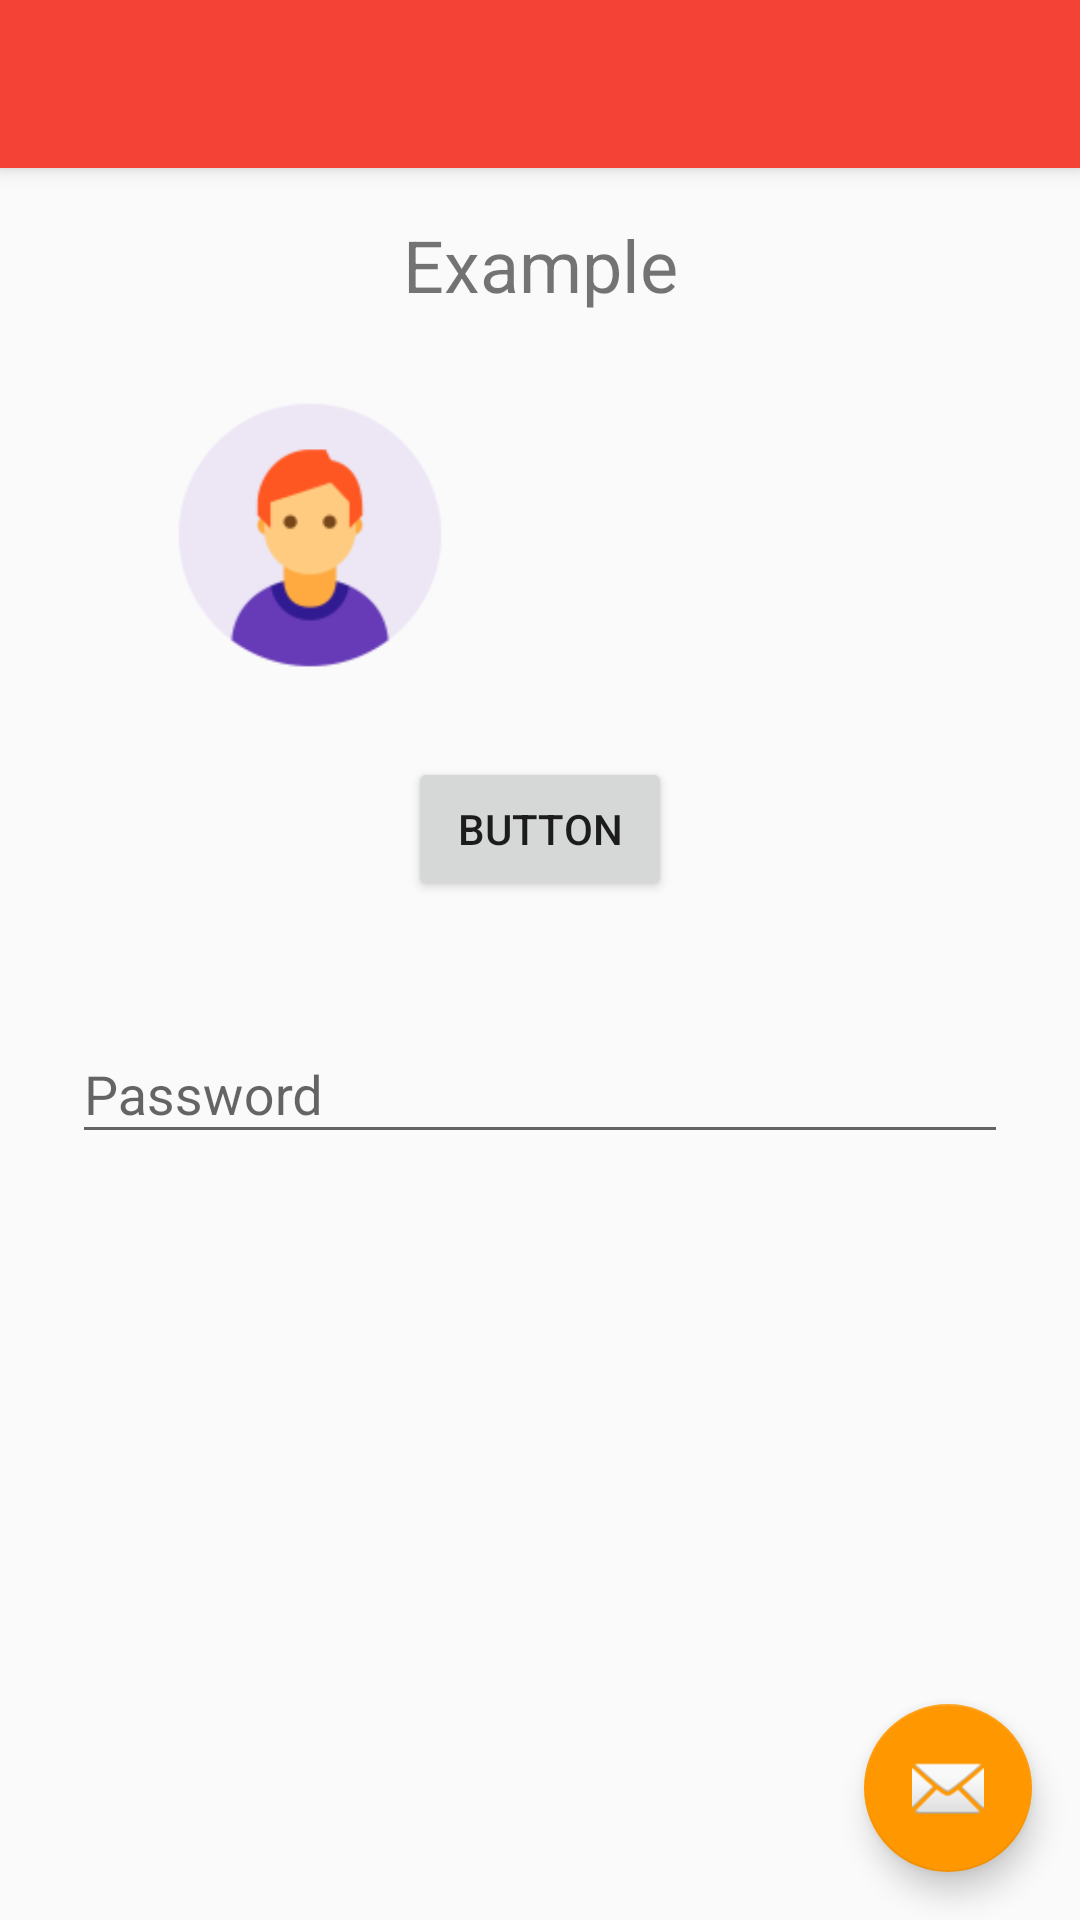

Icon click points for this 1080×1920 phone screenshot, format [x,y]:
email: [948,1788]
image user: [310,558]
